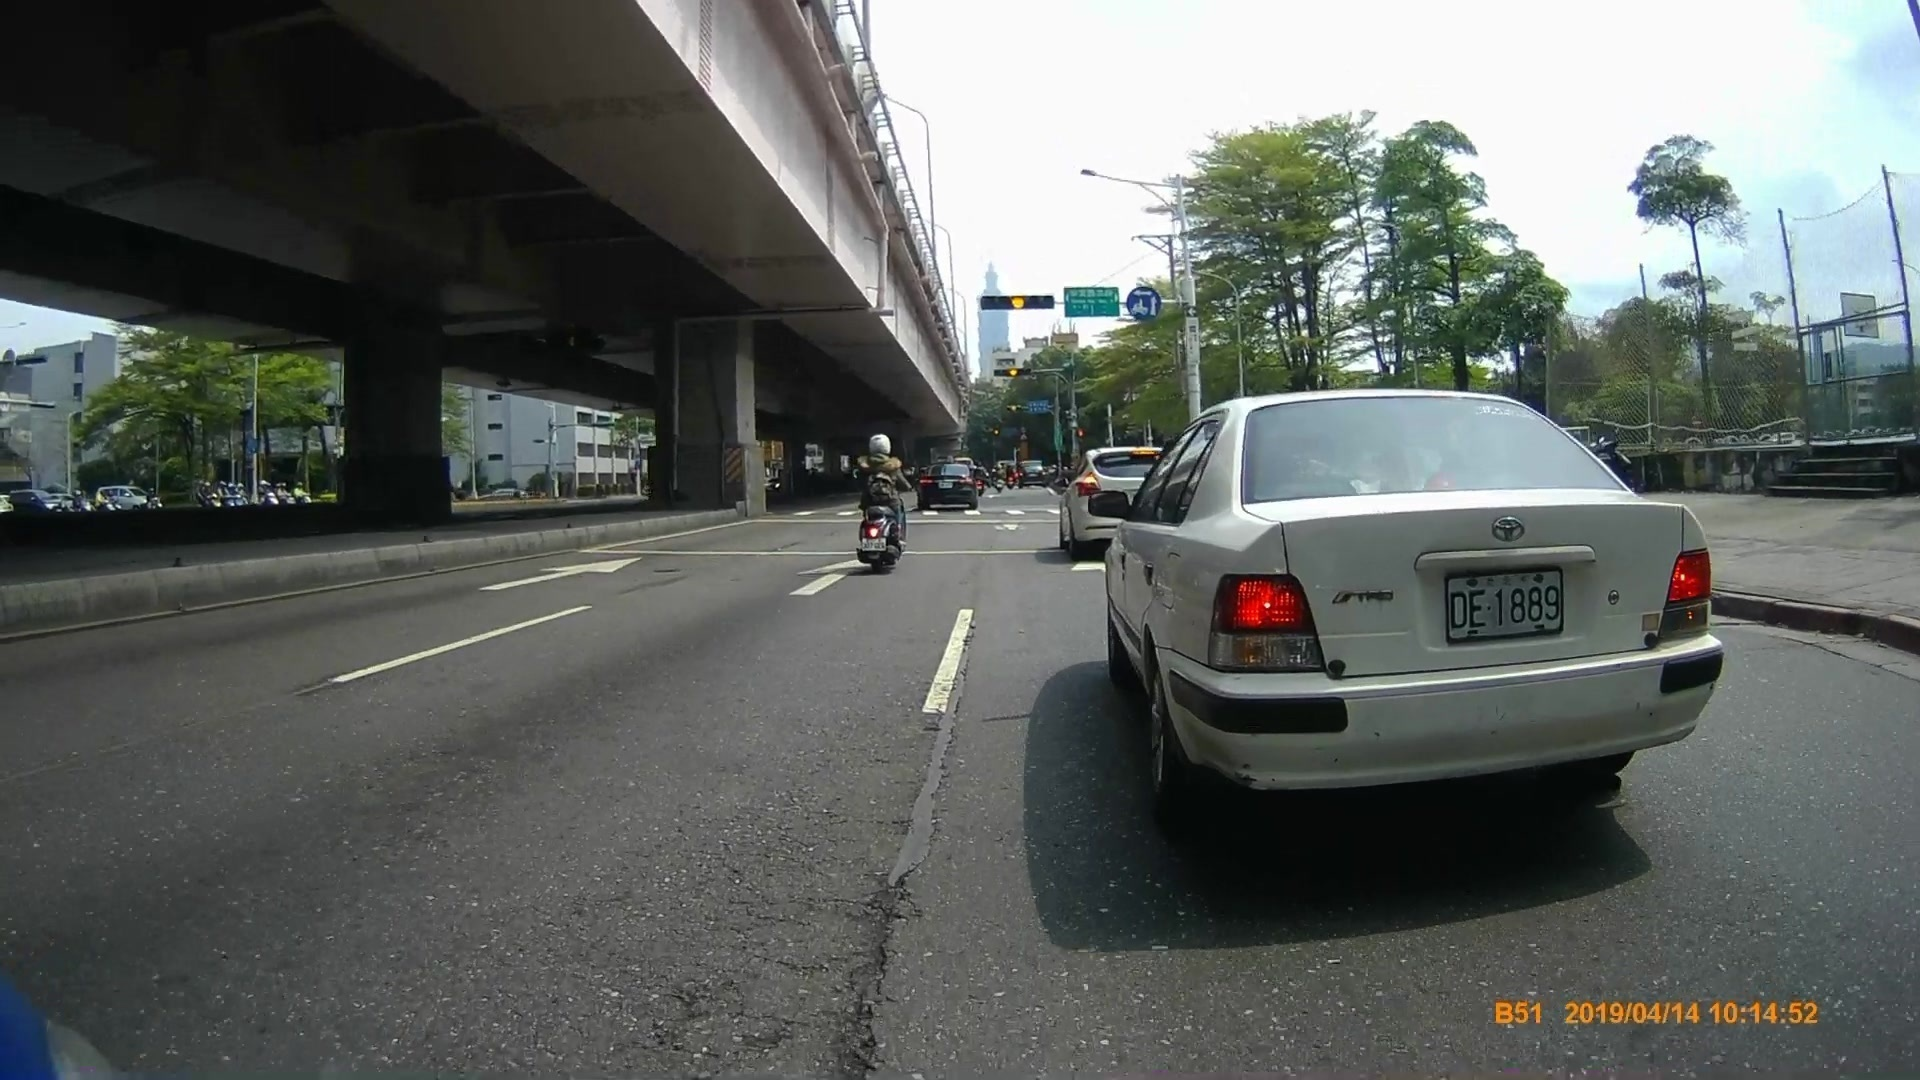License_plate: (1444, 569, 1568, 638)
